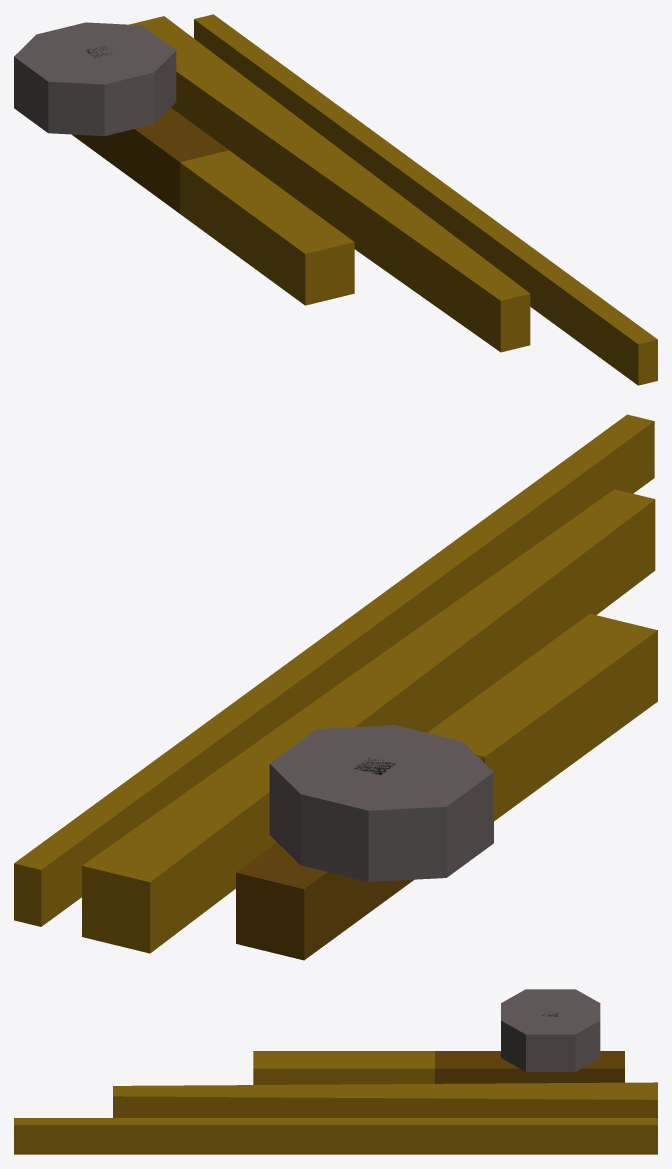
File: inv_oily_fishing_rod.obj
3 views of the same model, one above another, from view 1: azimuth 30°, elevation 25°; view 2: azimuth 150°, elevation 25°; view 3: azimuth 270°, elevation 25° (orthographic). The views are drawn at different scales.
Bounding box in the file's own units: 0.2031 × 0.0781 × 0.6094.
